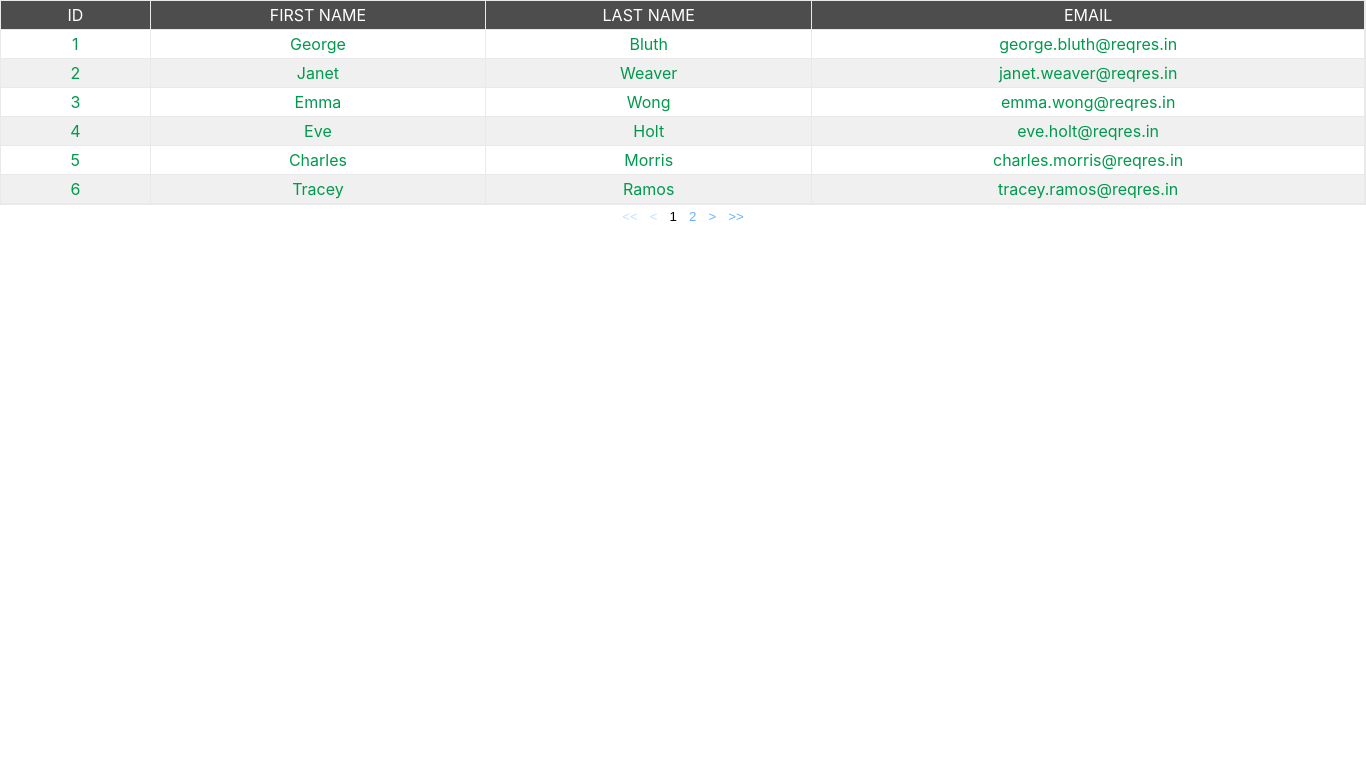
Test case: should display modal when a user is clicked
The width and height of the screenshot is (1366, 768).
Click the row "5 Charles Morris charles.morris@reqres.in": {"x": 683, "y": 160} [1, 146, 1365, 175]
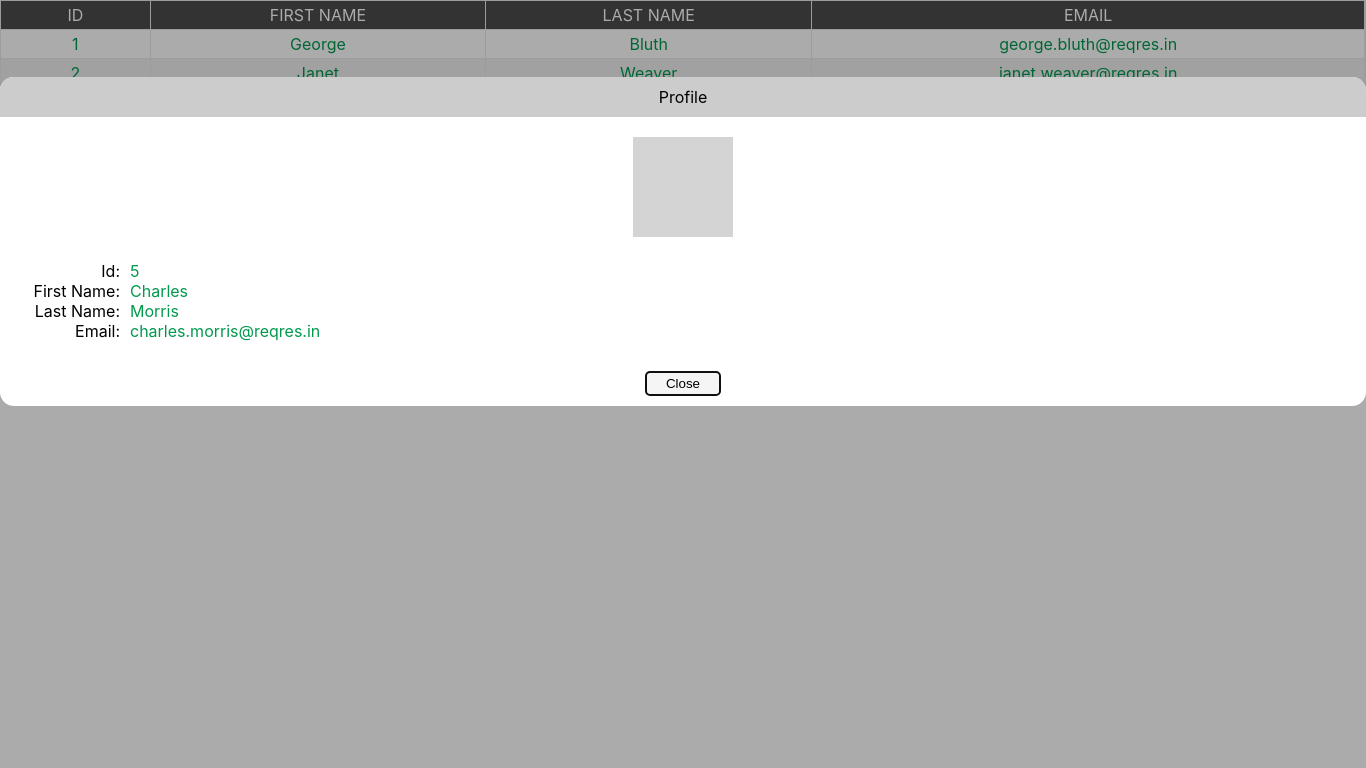
Now the dialog is shown, box [0, 77, 1365, 406]
Now the text "5" is shown, box [130, 261, 140, 281]
Now the text "Charles" is shown, box [130, 281, 188, 301]
